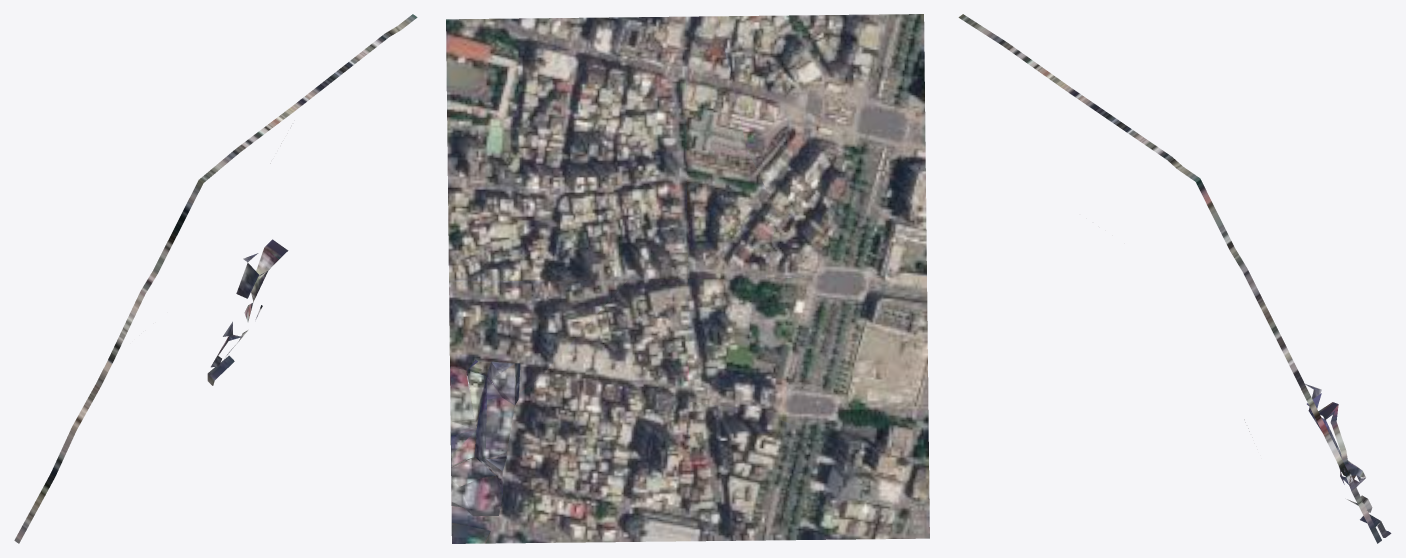
3 views of the same model, side by side, from view 1: azimuth 30°, elevation 25°; view 2: azimuth 150°, elevation 25°; view 3: azimuth 270°, elevation 25° (orthographic). The views are drawn at different scales.
Bounding box in the file's own units: 613 × 556 × 528.
1 material, 1 textured.
